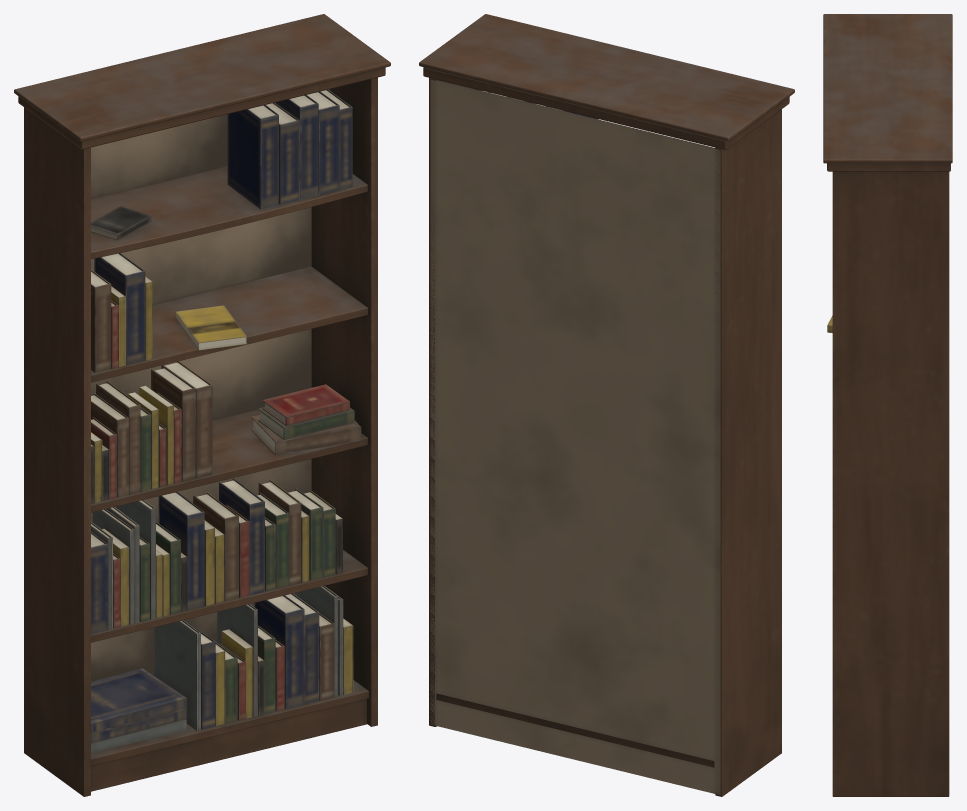
The model's file is Bookcase.fbx.
3 renders of one model, left to right at view 1: azimuth 30°, elevation 25°; view 2: azimuth 150°, elevation 25°; view 3: azimuth 270°, elevation 25°, orthographic. The views are drawn at different scales.
Parts seen in each view (by area): view 1: Bookcase_Mesh; view 2: Bookcase_Mesh; view 3: Bookcase_Mesh.
Boxes of the visible parts, x1=… form: Bookcase_Mesh: x1=14, y1=14, x2=390, y2=796; Bookcase_Mesh: x1=419, y1=14, x2=794, y2=796; Bookcase_Mesh: x1=823, y1=14, x2=952, y2=796.
Bounding box in the file's own units: 0.95 × 1.94 × 0.355.
